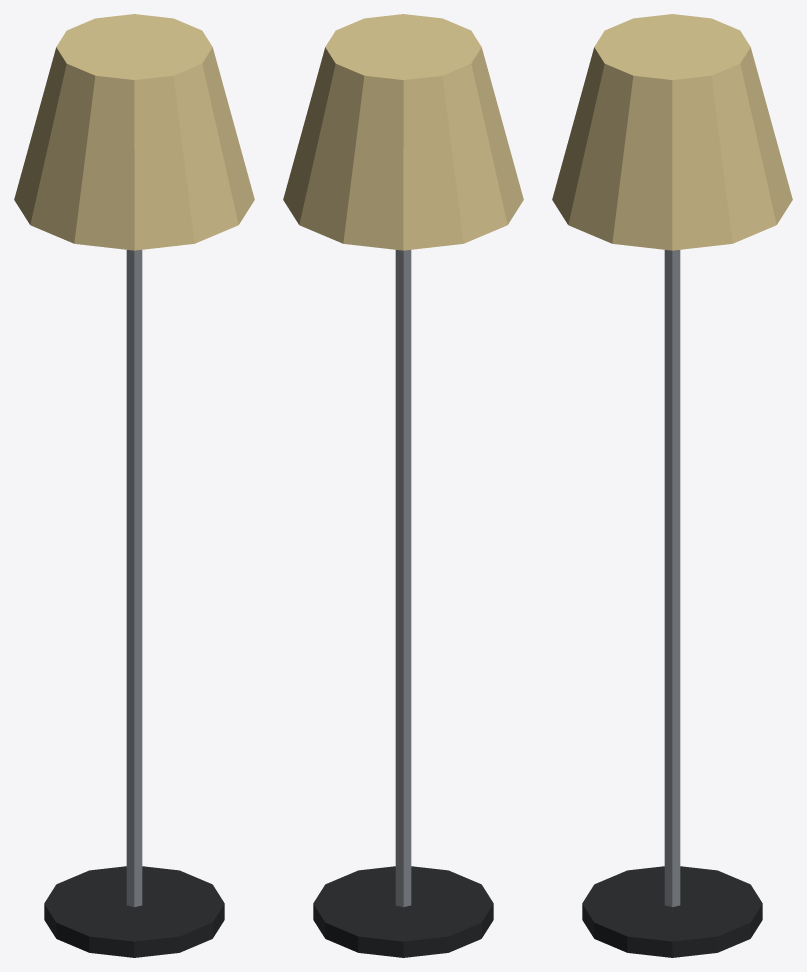
Rendered from floor_lamp.glb.
3 views of the same model, side by side, from view 1: azimuth 30°, elevation 25°; view 2: azimuth 150°, elevation 25°; view 3: azimuth 270°, elevation 25° (orthographic).
Parts seen in each view (by area): view 1: floor_lamp; view 2: floor_lamp; view 3: floor_lamp.
Part boxes in pixels (<box>): floor_lamp: <box>14,14,254,957</box>; floor_lamp: <box>283,14,523,957</box>; floor_lamp: <box>552,14,792,957</box>.
Bounding box in the file's own units: 0.4 × 1.6 × 0.4.
